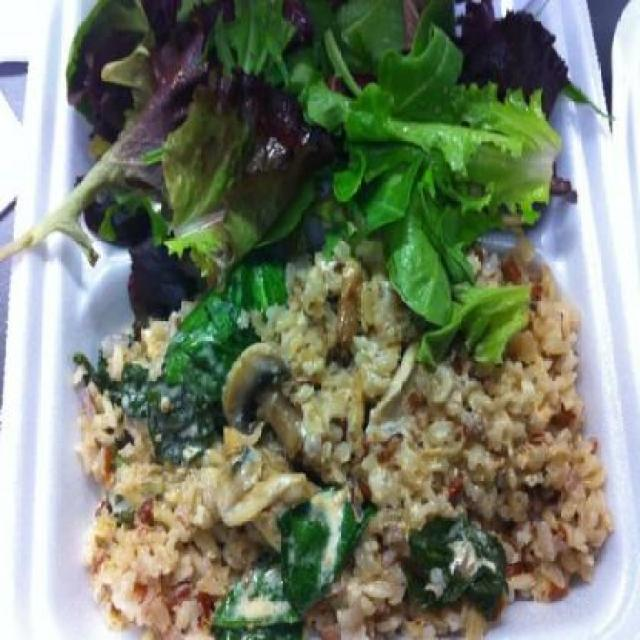Risotto: (73, 251, 624, 617)
